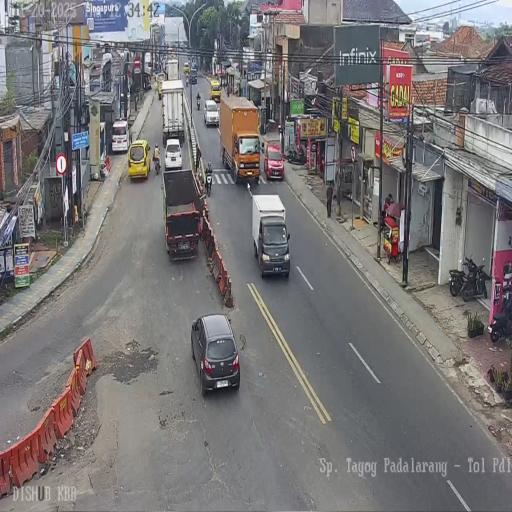3: (163, 166, 203, 262), (219, 90, 258, 186), (251, 193, 290, 279), (160, 78, 186, 147), (166, 57, 179, 82), (144, 52, 152, 73), (190, 63, 198, 83)
car: (191, 312, 241, 396), (128, 138, 150, 180), (264, 144, 285, 182), (111, 119, 130, 154), (164, 138, 182, 171), (203, 100, 219, 126), (209, 78, 221, 102), (156, 73, 166, 98), (183, 62, 190, 74)
truck: (460, 254, 488, 301), (489, 288, 512, 342), (285, 145, 306, 166), (185, 74, 189, 87), (196, 98, 200, 110)
